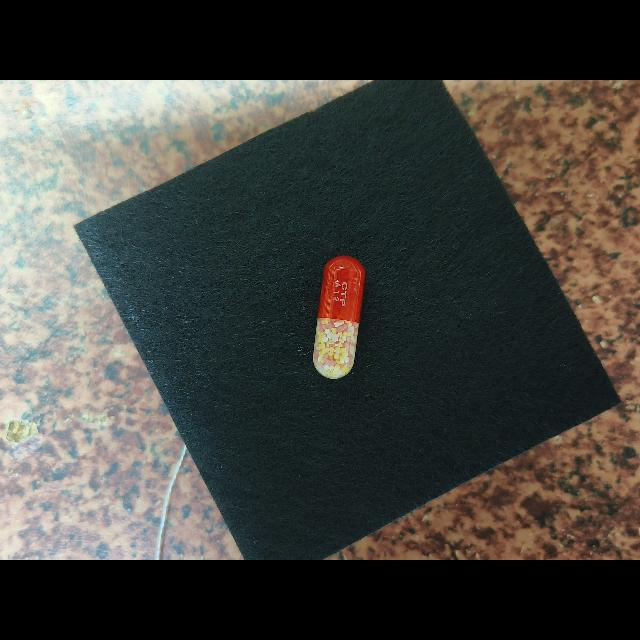Intact Capsule: (313, 255, 365, 379)
